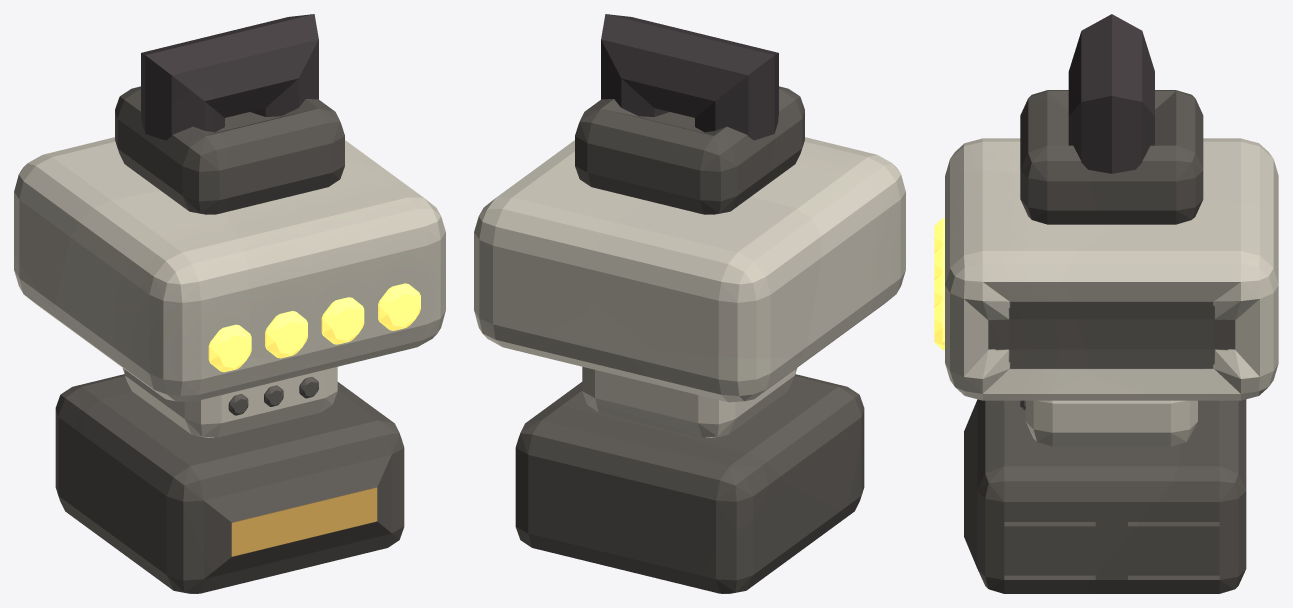
File: beacon.glb
3 renders of one model, left to right at view 1: azimuth 30°, elevation 25°; view 2: azimuth 150°, elevation 25°; view 3: azimuth 270°, elevation 25°, orthographic.
Visible parts, largest first — view 1: Beacon; view 2: Beacon; view 3: Beacon.
Part boxes in pixels (<box>): Beacon: <box>14,14,445,593</box>; Beacon: <box>474,14,905,593</box>; Beacon: <box>934,14,1278,593</box>.
Size of the model in its own units: 1.24 by 2.02 by 1.28.
Materials: 1 (1 with a texture image).
